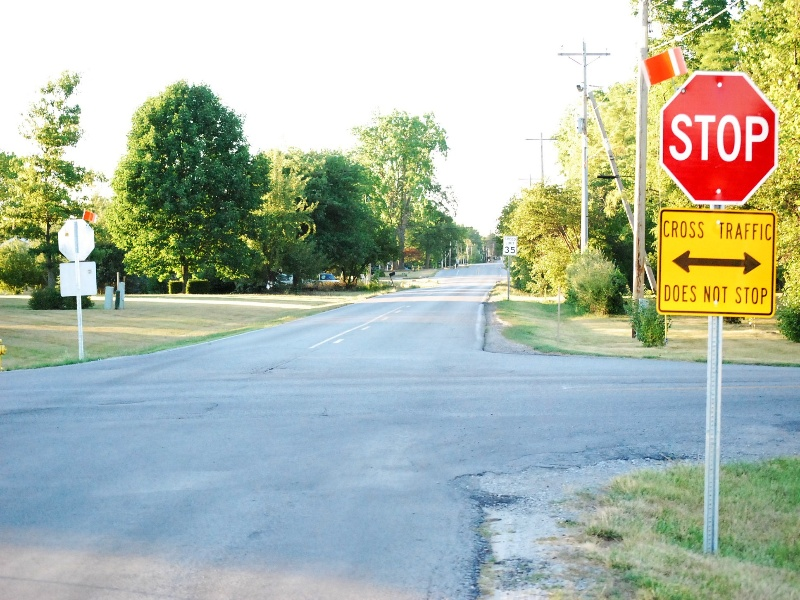speed limit: (499, 231, 521, 260)
